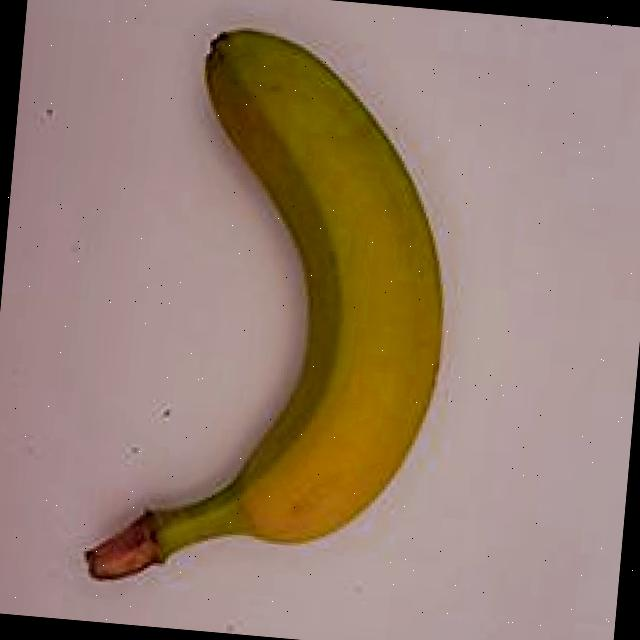Unripe: (42, 5, 504, 630)
